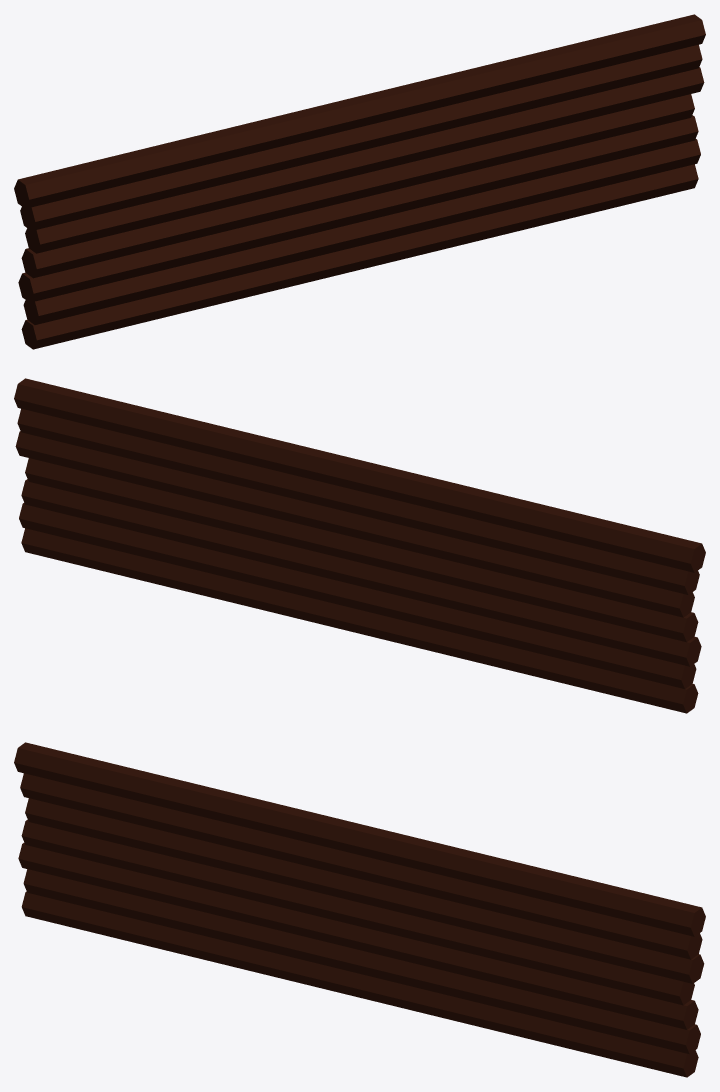
The model's file is logwall_02.FBX.
The picture shows the model from 3 angles, top to bottom: view 1: azimuth 30°, elevation 25°; view 2: azimuth 150°, elevation 25°; view 3: azimuth 330°, elevation 25°; orthographic projection.
Visible parts, largest first — view 1: Cylinder007, Cylinder001, Cylinder005, Cylinder004, Cylinder003, Cylinder006, Cylinder002; view 2: Cylinder007, Cylinder001, Cylinder005, Cylinder004, Cylinder003, Cylinder006, Cylinder002; view 3: Cylinder007, Cylinder004, Cylinder005, Cylinder001, Cylinder003, Cylinder002, Cylinder006.
Boxes of the visible parts, x1,y1,x2,y2 form: Cylinder007: [14, 14, 705, 208]; Cylinder001: [21, 164, 698, 349]; Cylinder005: [20, 44, 702, 230]; Cylinder004: [25, 67, 704, 253]; Cylinder003: [18, 115, 698, 302]; Cylinder006: [21, 94, 694, 278]; Cylinder002: [23, 139, 700, 324]; Cylinder007: [14, 378, 705, 572]; Cylinder001: [21, 528, 698, 713]; Cylinder005: [17, 408, 699, 594]; Cylinder004: [15, 431, 694, 617]; Cylinder003: [21, 479, 701, 666]; Cylinder006: [25, 458, 698, 642]; Cylinder002: [19, 503, 696, 688]; Cylinder007: [14, 742, 705, 936]; Cylinder004: [25, 798, 704, 983]; Cylinder005: [20, 773, 702, 959]; Cylinder001: [21, 891, 698, 1077]; Cylinder003: [18, 842, 698, 1029]; Cylinder002: [23, 869, 700, 1054]; Cylinder006: [21, 819, 694, 1005].
Bounding box in the file's own units: 257 × 60.3 × 10.
